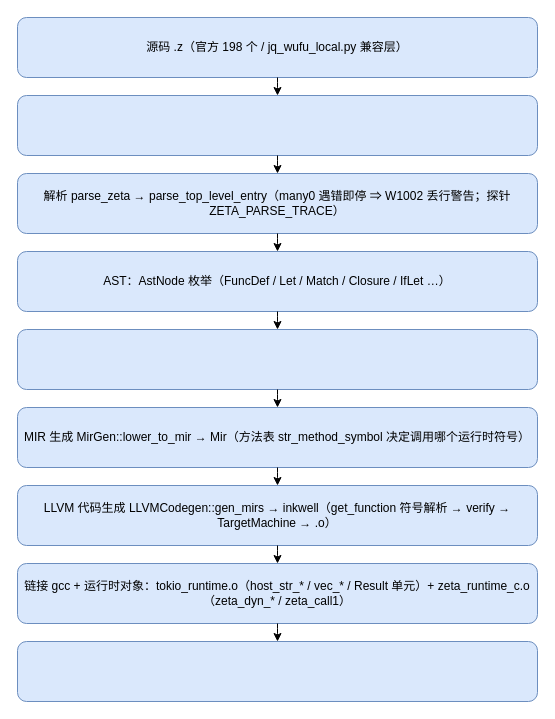
Image size: 555x719. Some labels were removed from this diagram. The shapes that lost their labels are listed below. From the top down, each one's centre as x and y in pixels, then its label:
At [277,125]: "缩进预处理 indent::indent_preprocess（行内冒号规则＝批次 367 修复）".
At [277,359]: "语义解析 Resolver::register（函数签名表 fn_rets / 类型表 type_decls）".
At [277,671]: "可执行文件 → 运行期（值没有类型标记，方法靠符号名分发；zeta_call1 回调闭包）".
